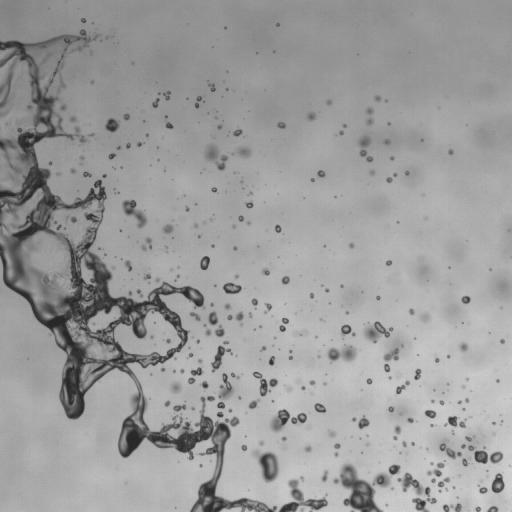droplet: (333, 463, 400, 511), (252, 449, 278, 482), (363, 321, 393, 343), (253, 371, 277, 396), (327, 344, 356, 362), (491, 473, 504, 493), (222, 282, 241, 294), (105, 118, 119, 132), (341, 324, 355, 336), (236, 147, 251, 157), (358, 415, 369, 428), (208, 311, 218, 325), (142, 237, 151, 250), (200, 256, 209, 269), (170, 382, 180, 393), (215, 325, 224, 337), (64, 214, 77, 222), (173, 404, 186, 412), (314, 403, 325, 412), (425, 409, 436, 418), (163, 224, 173, 233), (248, 399, 258, 408), (459, 342, 468, 351), (321, 470, 328, 481), (420, 313, 429, 321), (462, 457, 470, 466), (124, 260, 131, 270), (236, 311, 243, 321), (414, 369, 421, 379), (307, 112, 315, 120), (262, 267, 270, 275), (281, 276, 289, 284), (152, 98, 159, 107), (233, 129, 242, 136), (461, 296, 470, 303), (394, 425, 401, 434), (478, 486, 487, 493), (265, 303, 271, 313), (486, 506, 498, 511), (317, 170, 325, 177), (245, 201, 253, 208), (201, 381, 208, 389), (164, 91, 170, 100), (268, 356, 274, 365), (366, 118, 373, 125), (328, 430, 335, 437), (277, 122, 285, 128), (275, 224, 281, 232), (251, 298, 257, 306), (293, 331, 302, 336), (209, 84, 215, 91), (366, 108, 373, 114), (123, 113, 129, 120), (165, 122, 172, 128), (224, 303, 231, 309), (205, 328, 211, 335), (334, 443, 340, 450), (304, 446, 311, 452), (83, 172, 91, 177), (60, 104, 66, 110), (70, 116, 76, 122), (109, 153, 115, 159), (144, 273, 150, 279), (388, 406, 394, 412), (285, 386, 292, 391), (465, 436, 472, 441), (384, 139, 390, 144), (386, 177, 392, 182), (238, 215, 243, 221), (409, 308, 414, 314), (366, 378, 371, 384), (309, 380, 315, 385), (164, 401, 170, 406), (407, 418, 414, 422), (375, 96, 380, 101), (448, 149, 453, 154), (70, 168, 75, 173), (212, 187, 217, 192), (386, 260, 391, 265), (309, 293, 314, 298), (227, 315, 232, 320), (165, 338, 170, 343), (241, 445, 246, 450), (79, 156, 83, 162), (126, 143, 130, 148), (137, 142, 142, 146), (349, 243, 353, 248), (261, 346, 266, 350), (439, 400, 444, 404), (402, 441, 406, 446), (431, 478, 435, 483), (475, 507, 480, 511), (81, 18, 85, 22), (327, 100, 331, 104), (217, 125, 221, 129), (339, 130, 343, 134), (370, 170, 374, 174), (405, 171, 409, 175), (185, 207, 189, 211), (233, 246, 237, 250), (325, 288, 329, 292), (500, 339, 504, 343), (188, 353, 192, 357), (198, 359, 202, 363), (435, 358, 439, 362), (180, 369, 184, 373), (301, 386, 305, 390), (352, 417, 356, 421), (282, 437, 286, 441), (259, 441, 263, 445), (461, 444, 465, 448), (334, 452, 338, 456), (89, 133, 93, 136), (391, 156, 394, 160), (155, 278, 159, 281), (376, 296, 380, 299), (249, 313, 252, 317), (224, 341, 228, 344), (465, 399, 469, 402), (393, 436, 397, 439), (17, 120, 20, 123), (117, 146, 120, 149), (393, 173, 396, 176), (194, 224, 197, 227), (289, 356, 292, 359), (161, 368, 164, 371), (458, 401, 461, 404), (228, 409, 231, 412), (343, 124, 345, 127), (57, 172, 59, 175), (103, 174, 105, 177), (311, 178, 313, 181), (232, 225, 235, 227), (235, 275, 238, 277), (210, 303, 213, 305), (196, 340, 199, 342), (447, 355, 450, 357), (431, 400, 433, 403), (191, 407, 194, 409), (431, 424, 434, 426), (49, 162, 51, 164), (249, 192, 251, 194), (247, 222, 249, 224), (198, 235, 200, 237), (176, 275, 178, 277), (346, 312, 348, 314), (151, 336, 153, 338), (297, 381, 299, 383), (496, 380, 498, 382), (492, 422, 494, 424), (452, 431, 454, 433), (412, 443, 414, 445)
ligament: (0, 35, 325, 511), (397, 472, 436, 511), (270, 409, 307, 432), (122, 200, 147, 228), (468, 445, 503, 463), (204, 144, 227, 170), (217, 373, 233, 408), (211, 345, 231, 372), (383, 348, 398, 372), (439, 443, 461, 459), (359, 136, 372, 162), (427, 462, 445, 476), (444, 416, 466, 427), (188, 367, 203, 383), (396, 380, 409, 394), (437, 477, 450, 491), (442, 503, 461, 511), (279, 318, 288, 331), (190, 312, 200, 320), (195, 96, 202, 107), (231, 373, 239, 378), (137, 289, 142, 296)
